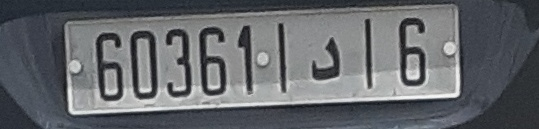0: (127, 24, 164, 104)
1: (234, 18, 258, 98)
3: (164, 26, 194, 100)
6: (392, 15, 436, 90), (196, 23, 230, 98), (92, 29, 126, 103)
d: (304, 28, 347, 90)
